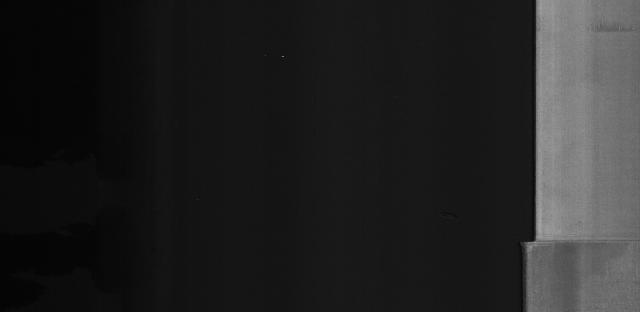welding_line: (512, 232, 640, 252)
